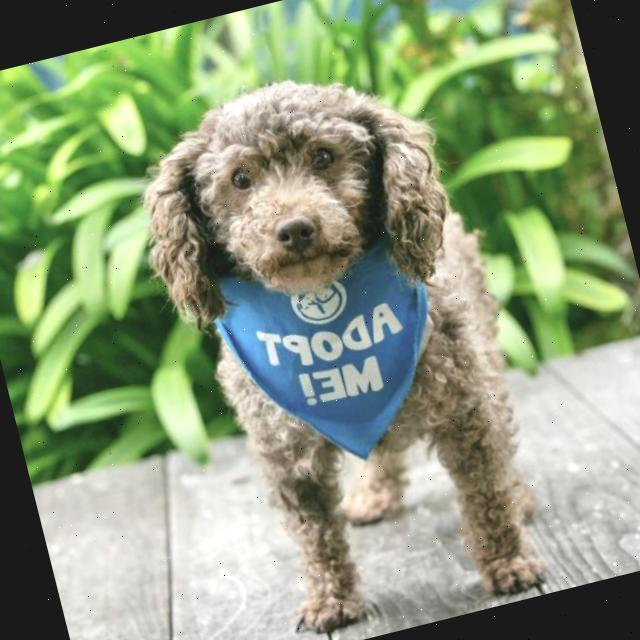Poodle_dog: (111, 42, 472, 346)
